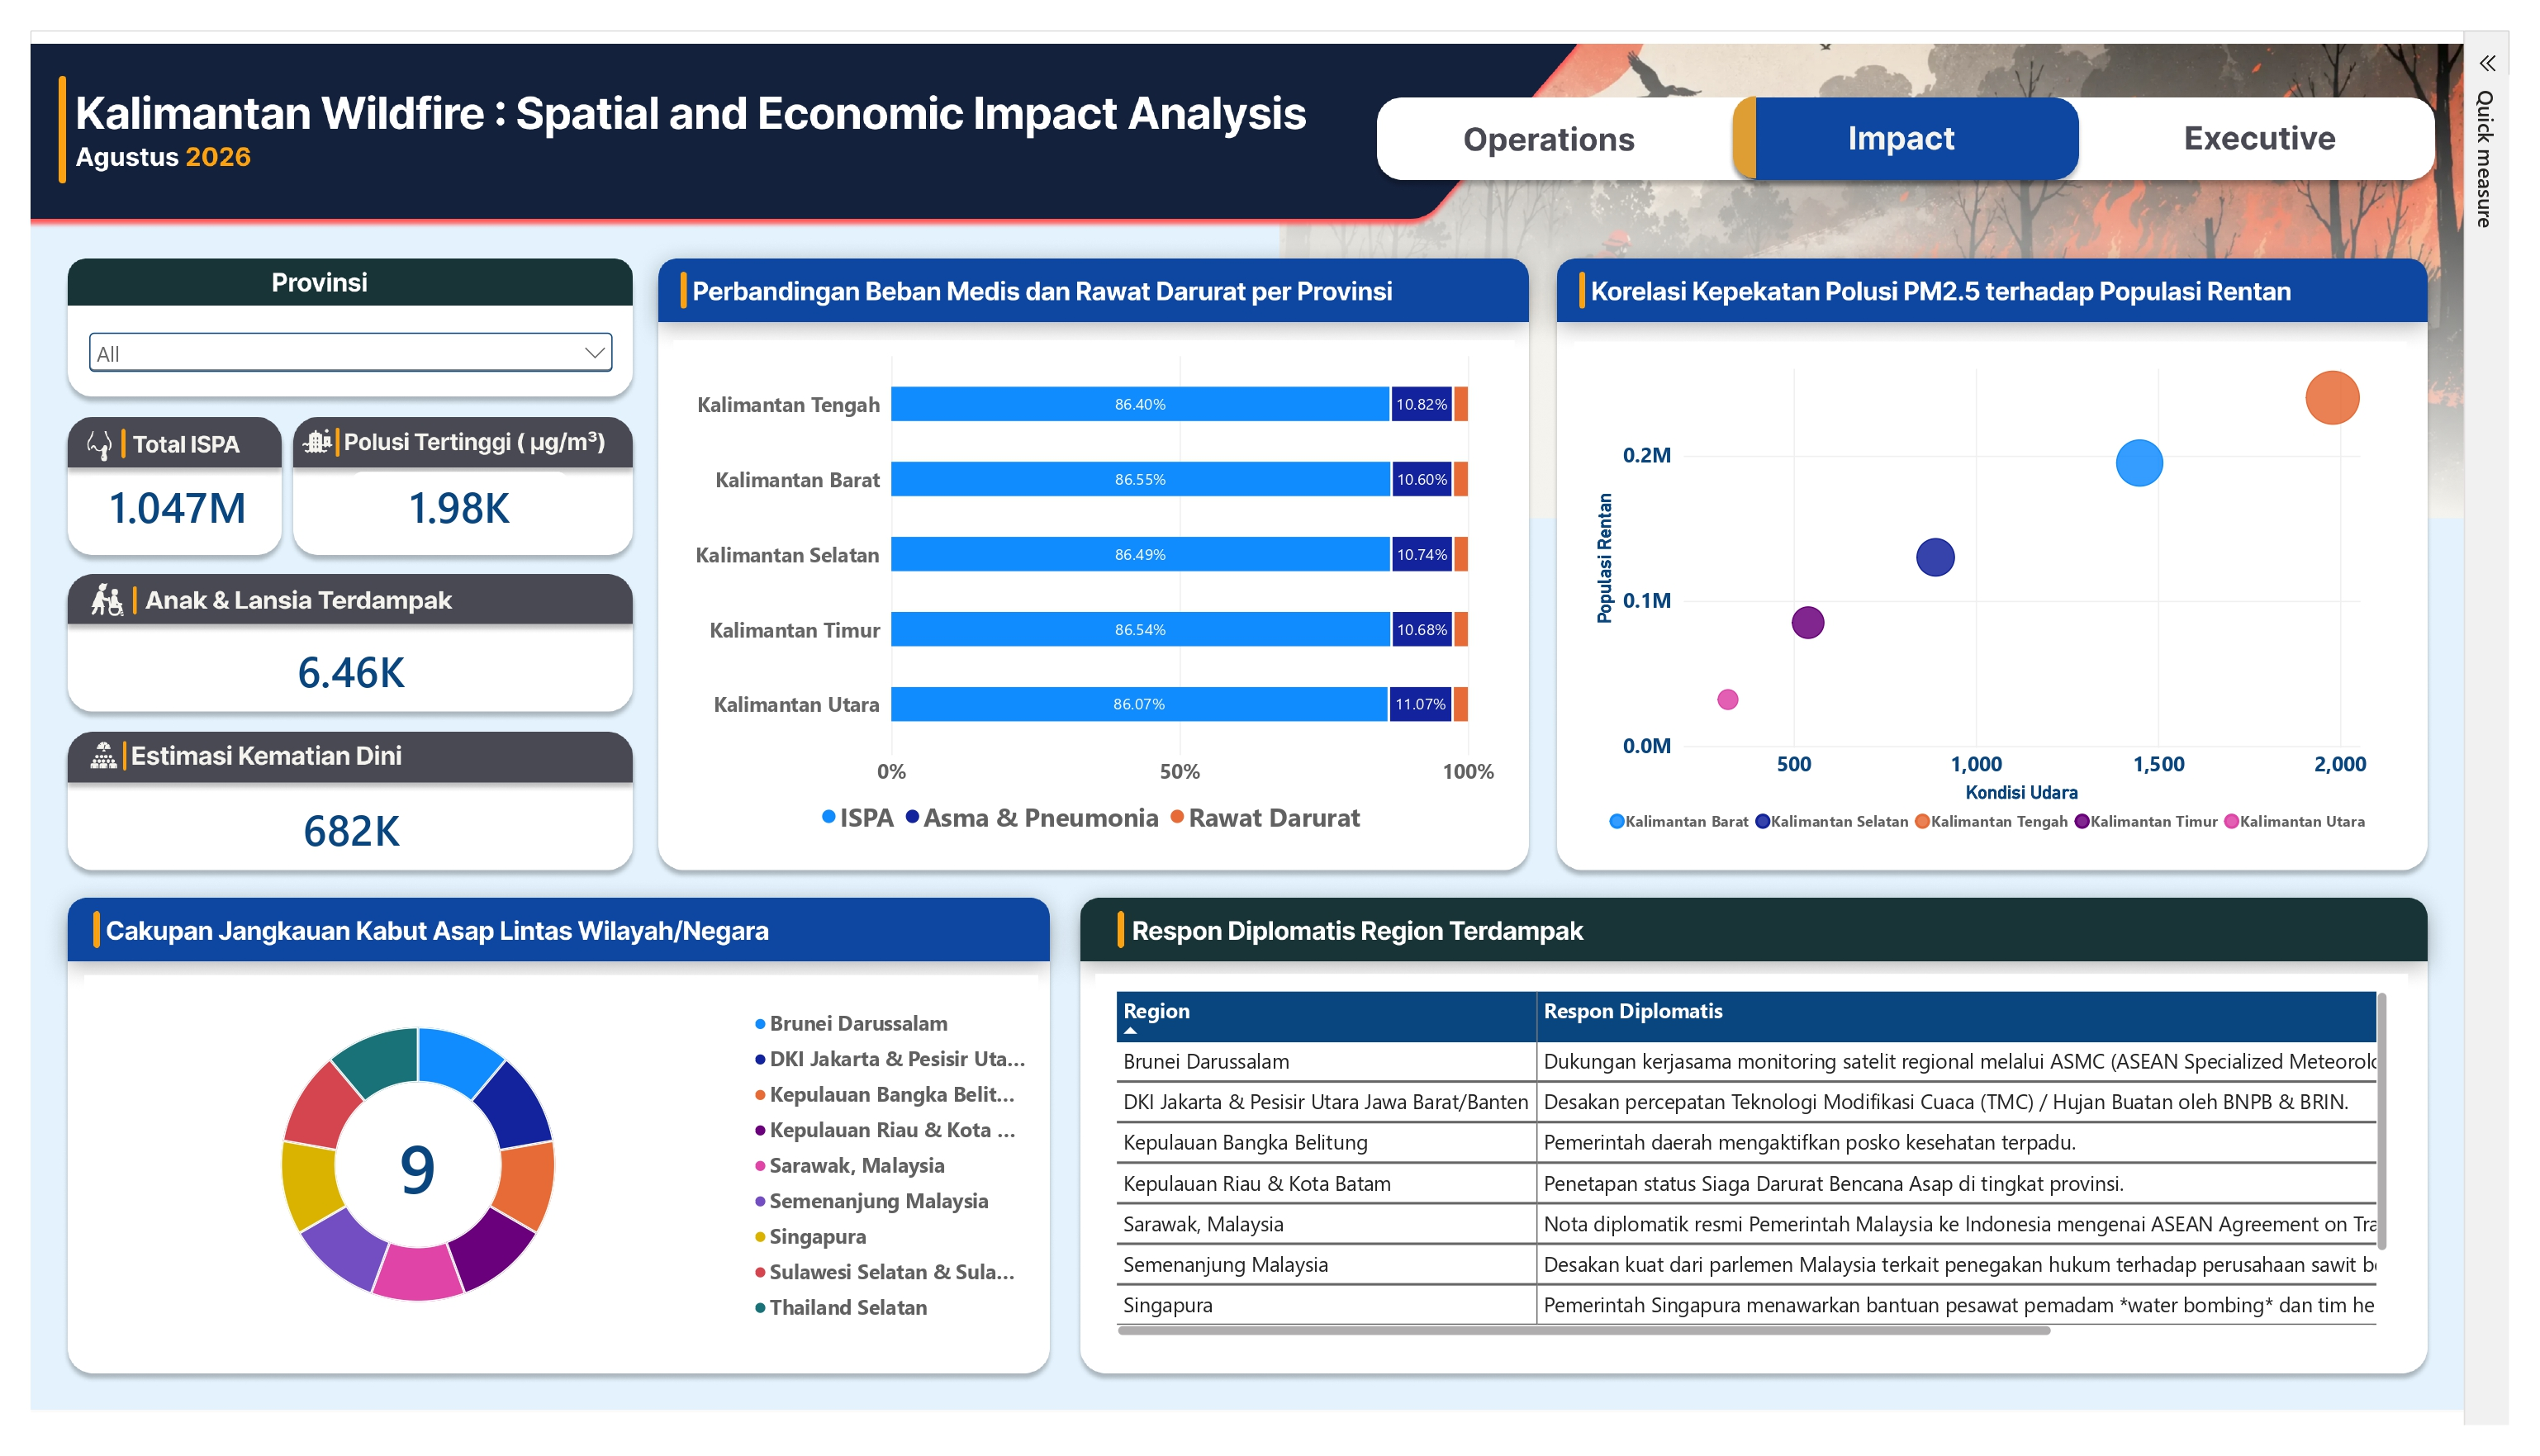

What the dashboard file says about the page in this screenshot:
{"tool":"powerbi","page":{"name":"Page 2","canvas":[1920,1080],"ordinal":1},"visuals":[{"type":"slicer","fields":{"Values":["Dim_Provinsi.province"]},"box":[42,222,422,46],"z":0},{"type":"cardVisual","title":"Estimasi Kematian Dini","fields":{"Data":["Sum(kalimantan_fire_fatalities_health_impacts.premature_deaths_pm25_est)"]},"box":[79.2,470.8,346.7,45.8],"z":1000},{"type":"cardVisual","title":"Total Kasus ISPA","fields":{"Data":["Sum(kalimantan_fire_fatalities_health_impacts.ispa_cases_treated)"]},"box":[41.7,340.8,149.2,45.8],"z":2000},{"type":"cardVisual","title":"Anak & Lansia Terdampak","fields":{"Data":["Sum(kalimantan_fire_fatalities_health_impacts.vulnerable_population_affected)"]},"box":[79.2,594.2,347.5,48.3],"z":3000},{"type":"cardVisual","title":"Polusi Tertinggi PM 2.5","fields":{"Data":["Max(kalimantan_fire_fatalities_health_impacts.peak_pm25_ug_m3)"]},"box":[252.5,337.5,171.7,52.5],"z":4000},{"type":"hundredPercentStackedBarChart","title":"Perbandingan Beban Medis dan Rawat Darurat per Provinsi","fields":{"Category":["Dim_Provinsi.province"],"Y":["Sum(kalimantan_fire_fatalities_health_impacts.ispa_cases_treated)","Sum(kalimantan_fire_fatalities_health_impacts.asthma_and_pneumonia_cases)","Sum(kalimantan_fire_fatalities_health_impacts.emergency_hospitalizations)"]},"box":[507.1,234.3,664,398],"z":5000},{"type":"scatterChart","title":"Korelasi Kepekatan Polusi PM2.5 terhadap Populasi Rentan","fields":{"Category":["Dim_Provinsi.province"],"Series":["Dim_Provinsi.province"],"Size":["Sum(kalimantan_fire_fatalities_health_impacts.premature_deaths_pm25_est)"],"X":["Sum(kalimantan_fire_fatalities_health_impacts.peak_pm25_ug_m3)"],"Y":["Sum(kalimantan_fire_fatalities_health_impacts.vulnerable_population_affected)"]},"box":[1217.5,235,657.5,407.5],"z":6000},{"type":"donutChart","title":"Cakupan Jangkauan Kabut Asap Lintas Wilayah/Negara","fields":{"Category":["kalimantan_transboundary_haze_external_impacts.region_name"],"Y":["CountNonNull(kalimantan_transboundary_haze_external_impacts.region_name)"]},"box":[42.3,734.6,752.7,301.9],"z":7000},{"type":"tableEx","fields":{"Values":["kalimantan_transboundary_haze_external_impacts.region_name","kalimantan_transboundary_haze_external_impacts.diplomatic_tension"]},"box":[840,734,1036,302],"z":8000}]}

Visuals, with their boxes on the page's 1920x1080 design canvas (x1, y1, x2, y2). These are canvas units, not pixel positions in the 2540x1456 screenshot, which may show the page scaled, cropped or inside an application window:
slicer - Dim_Provinsi.province: left=42, top=222, right=464, bottom=268
"Estimasi Kematian Dini" cardVisual: left=79, top=471, right=426, bottom=517
"Total Kasus ISPA" cardVisual: left=42, top=341, right=191, bottom=387
"Anak & Lansia Terdampak" cardVisual: left=79, top=594, right=427, bottom=642
"Polusi Tertinggi PM 2.5" cardVisual: left=252, top=338, right=424, bottom=390
"Perbandingan Beban Medis dan Rawat Darurat per Provinsi" hundredPercentStackedBarChart: left=507, top=234, right=1171, bottom=632
"Korelasi Kepekatan Polusi PM2.5 terhadap Populasi Rentan" scatterChart: left=1218, top=235, right=1875, bottom=642
"Cakupan Jangkauan Kabut Asap Lintas Wilayah/Negara" donutChart: left=42, top=735, right=795, bottom=1036
tableEx - kalimantan_transboundary_haze_external_impacts.region_name x kalimantan_transboundary_haze_external_impacts.diplomatic_tension: left=840, top=734, right=1876, bottom=1036
